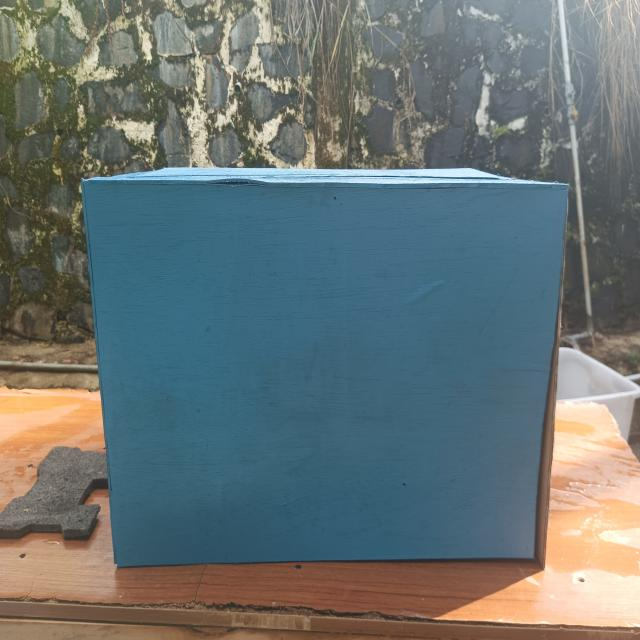blue_box: (77, 164, 568, 575)
